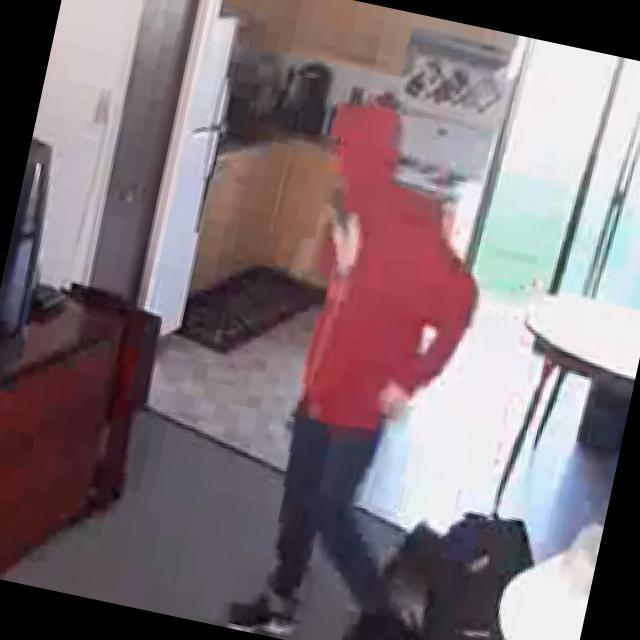person: (217, 87, 514, 640)
